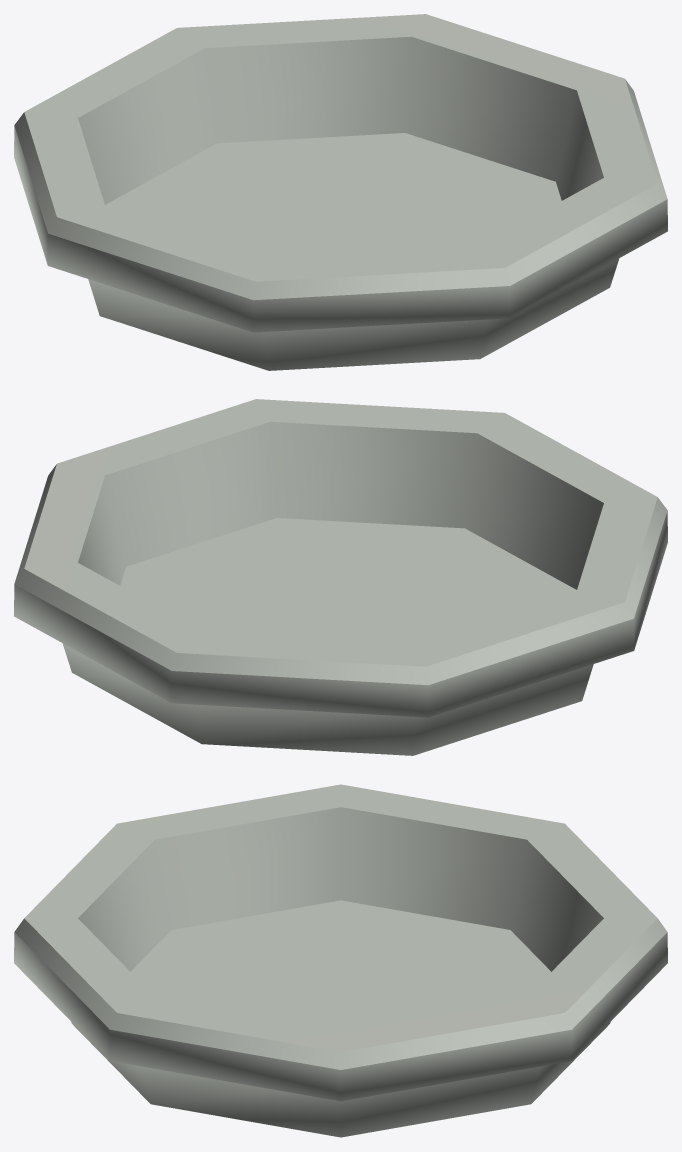
The model's file is Plate_2_A.fbx.
3 views of the same model, one above another, from view 1: azimuth 30°, elevation 25°; view 2: azimuth 150°, elevation 25°; view 3: azimuth 270°, elevation 25° (orthographic). The views are drawn at different scales.
Parts seen in each view (by area): view 1: Plate_2_A; view 2: Plate_2_A; view 3: Plate_2_A.
Part boxes in pixels (bbox=[...]): Plate_2_A: bbox=[14, 14, 667, 370]; Plate_2_A: bbox=[14, 399, 667, 755]; Plate_2_A: bbox=[14, 784, 667, 1137].
Size of the model in its own units: 19.46 by 3.47 by 19.46.
